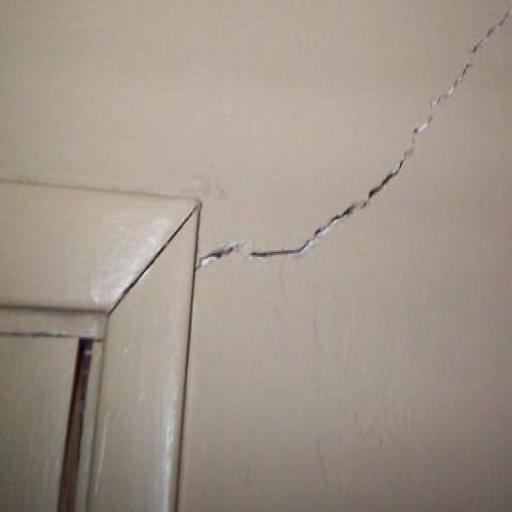spalling: (198, 7, 511, 276)
